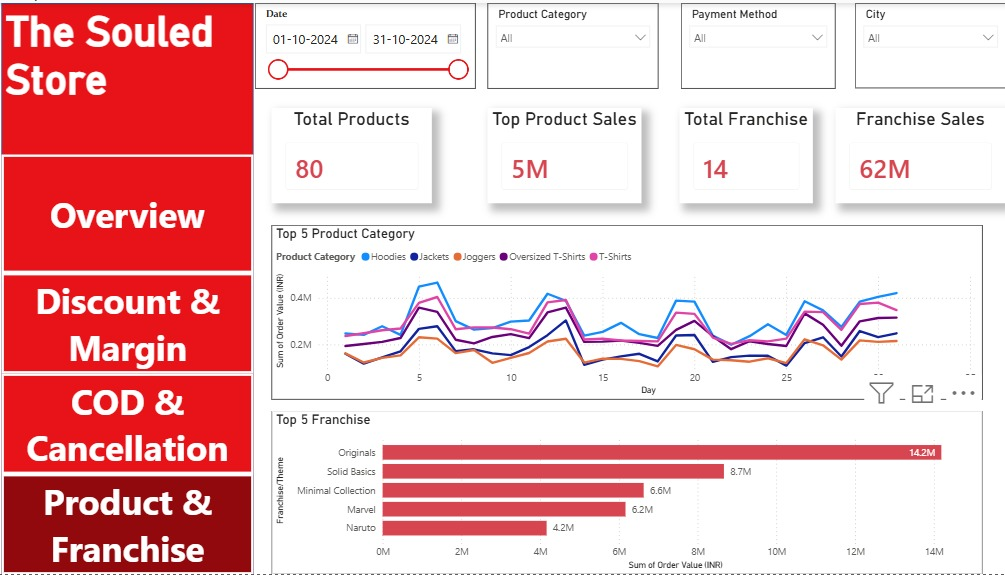

What the dashboard file says about the page in this screenshot:
{"tool":"powerbi","page":{"name":"Product & Franchise","canvas":[1280,720],"ordinal":3},"visuals":[{"type":"group","id":"g1","title":"Group 1","box":[13.2,0,317.5,720],"z":0},{"type":"shape","box":[13.2,0,317.5,720],"z":0,"group":"g1"},{"type":"slicer","fields":{"Values":["SOULED_STORE.Date"]},"box":[332,0,278,108],"z":1},{"type":"slicer","fields":{"Values":["SOULED_STORE.Product Category"]},"box":[625.5,0,215.4,107.7],"z":2},{"type":"slicer","fields":{"Values":["SOULED_STORE.Payment Method"]},"box":[869.3,0,194.6,107.7],"z":3},{"type":"slicer","fields":{"Values":["SOULED_STORE.City"]},"box":[1088.9,0,190.7,107.4],"z":4},{"type":"cardVisual","title":"Total Products","fields":{"Data":["SOULED_STORE.Total Products"]},"box":[354,132,202,120],"z":5},{"type":"cardVisual","title":"Top Product Sales","fields":{"Data":["SOULED_STORE.Top Product Sales"]},"box":[626,132,194,120],"z":6},{"type":"cardVisual","title":"Total Franchise","fields":{"Data":["SOULED_STORE.Unique Franchises"]},"box":[868,132,168,120],"z":7},{"type":"cardVisual","title":"Franchise Sales","fields":{"Data":["SOULED_STORE.Franchise Sales"]},"box":[1064,132,214,120],"z":8},{"type":"lineChart","title":"Top 5 Product Category","fields":{"Category":["SOULED_STORE.Date.Variation.Date Hierarchy.Day"],"Y":["Sum(SOULED_STORE.Order Value (INR))"],"Series":["SOULED_STORE.Product Category"]},"box":[354,280,896,220],"z":10},{"type":"barChart","title":"Top 5 Franchise","fields":{"Category":["SOULED_STORE.Franchise/Theme"],"Y":["Sum(SOULED_STORE.Order Value (INR))"]},"box":[354,514,896,206],"z":11},{"type":"actionButton","box":[13.2,593.4,317.5,126.6],"z":1000,"group":"g1"},{"type":"actionButton","box":[13.2,466.8,317.5,126.6],"z":2000,"group":"g1"},{"type":"actionButton","box":[13.2,340.2,317.5,126.6],"z":3000,"group":"g1"},{"type":"actionButton","box":[13.2,190.9,317.5,149.3],"z":4000,"group":"g1"},{"type":"textbox","box":[13.2,0,317.5,213.5],"z":5000,"group":"g1"}]}

Visuals, with their boxes in screenshot pixels (x1, y1, x2, y2), scaled from the page's 1280x720 canvas onto the 1005x575 screenshot:
"Group 1" group: crop(10, 0, 260, 574)
shape: crop(10, 0, 260, 574)
slicer - SOULED_STORE.Date: crop(261, 0, 479, 86)
slicer - SOULED_STORE.Product Category: crop(491, 0, 660, 86)
slicer - SOULED_STORE.Payment Method: crop(683, 0, 835, 86)
slicer - SOULED_STORE.City: crop(855, 0, 1004, 86)
"Total Products" cardVisual: crop(278, 105, 437, 201)
"Top Product Sales" cardVisual: crop(492, 105, 644, 201)
"Total Franchise" cardVisual: crop(682, 105, 813, 201)
"Franchise Sales" cardVisual: crop(835, 105, 1003, 201)
"Top 5 Product Category" lineChart: crop(278, 224, 981, 399)
"Top 5 Franchise" barChart: crop(278, 410, 981, 574)
actionButton: crop(10, 474, 260, 574)
actionButton: crop(10, 373, 260, 474)
actionButton: crop(10, 272, 260, 373)
actionButton: crop(10, 152, 260, 272)
textbox: crop(10, 0, 260, 171)
